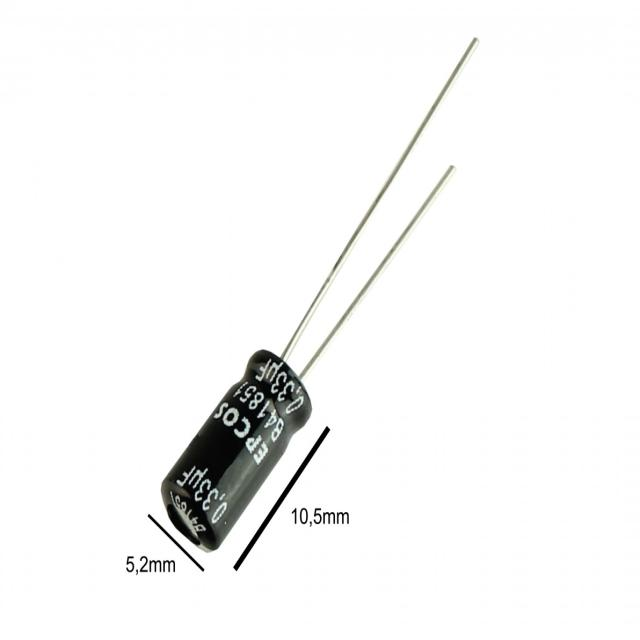Capacitor: (160, 38, 479, 553)
